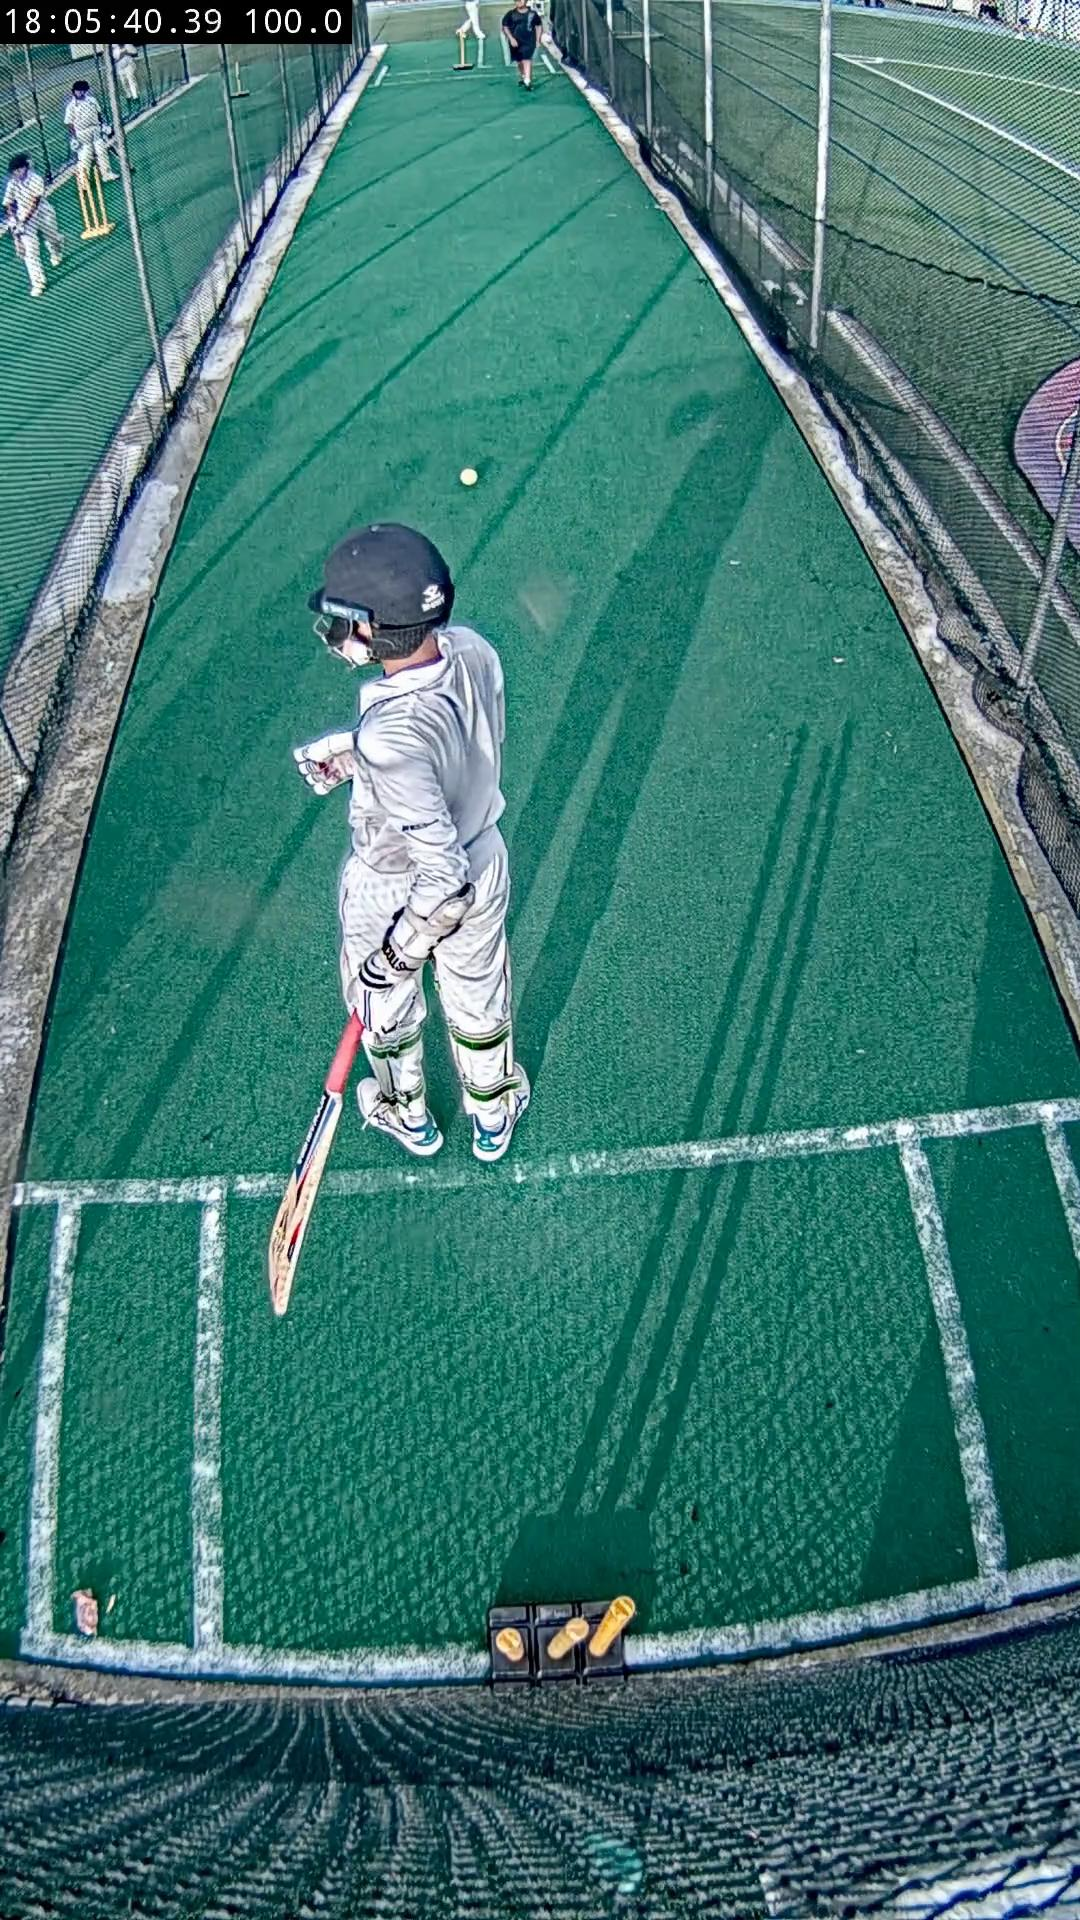ball: (462, 468, 480, 488)
bat: (266, 1092, 342, 1315)
gloves: (345, 975, 427, 1044), (293, 732, 356, 795)
helmet: (323, 521, 454, 626)
stumps: (488, 1597, 637, 1684)
